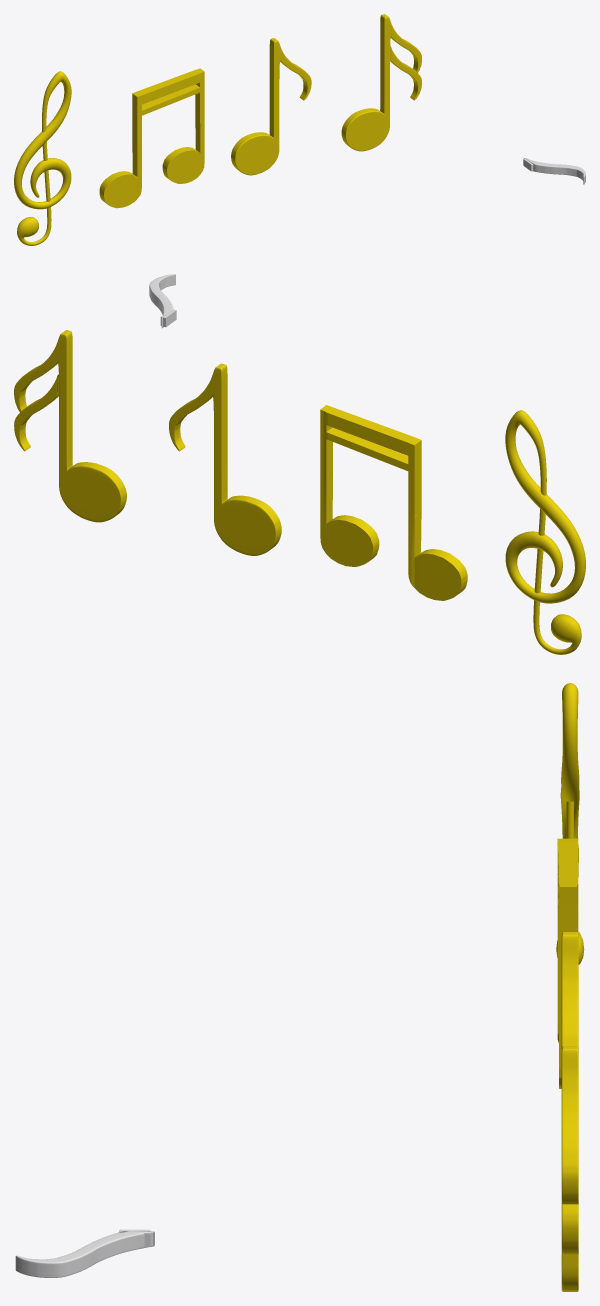
Rendered from MusicNotes.glb.
3 views of the same model, one above another, from view 1: azimuth 30°, elevation 25°; view 2: azimuth 150°, elevation 25°; view 3: azimuth 270°, elevation 25° (orthographic). The views are drawn at different scales.
Visible parts, largest first — view 1: Note1, Note4, Note3, Note2, bbb; view 2: Note1, Note4, Note3, Note2, bbb; view 3: Note3, Note4, bbb, Note1, Note2.
Part boxes in pixels (box(x1,y1,x2,y2)): Note1: box(99, 68, 204, 208); Note4: box(14, 71, 71, 245); Note3: box(341, 14, 421, 151); Note2: box(231, 38, 311, 175); bbb: box(524, 158, 585, 184); Note1: box(320, 405, 467, 600); Note4: box(505, 410, 585, 654); Note3: box(14, 330, 126, 522); Note2: box(169, 363, 281, 555); bbb: box(149, 274, 175, 328); Note3: box(561, 1046, 578, 1291); Note4: box(556, 683, 584, 964); bbb: box(15, 1231, 154, 1277); Note1: box(557, 838, 578, 1088); Note2: box(561, 932, 578, 1048).
Size of the model in its own units: 9.32 by 3.4 by 5.23.
